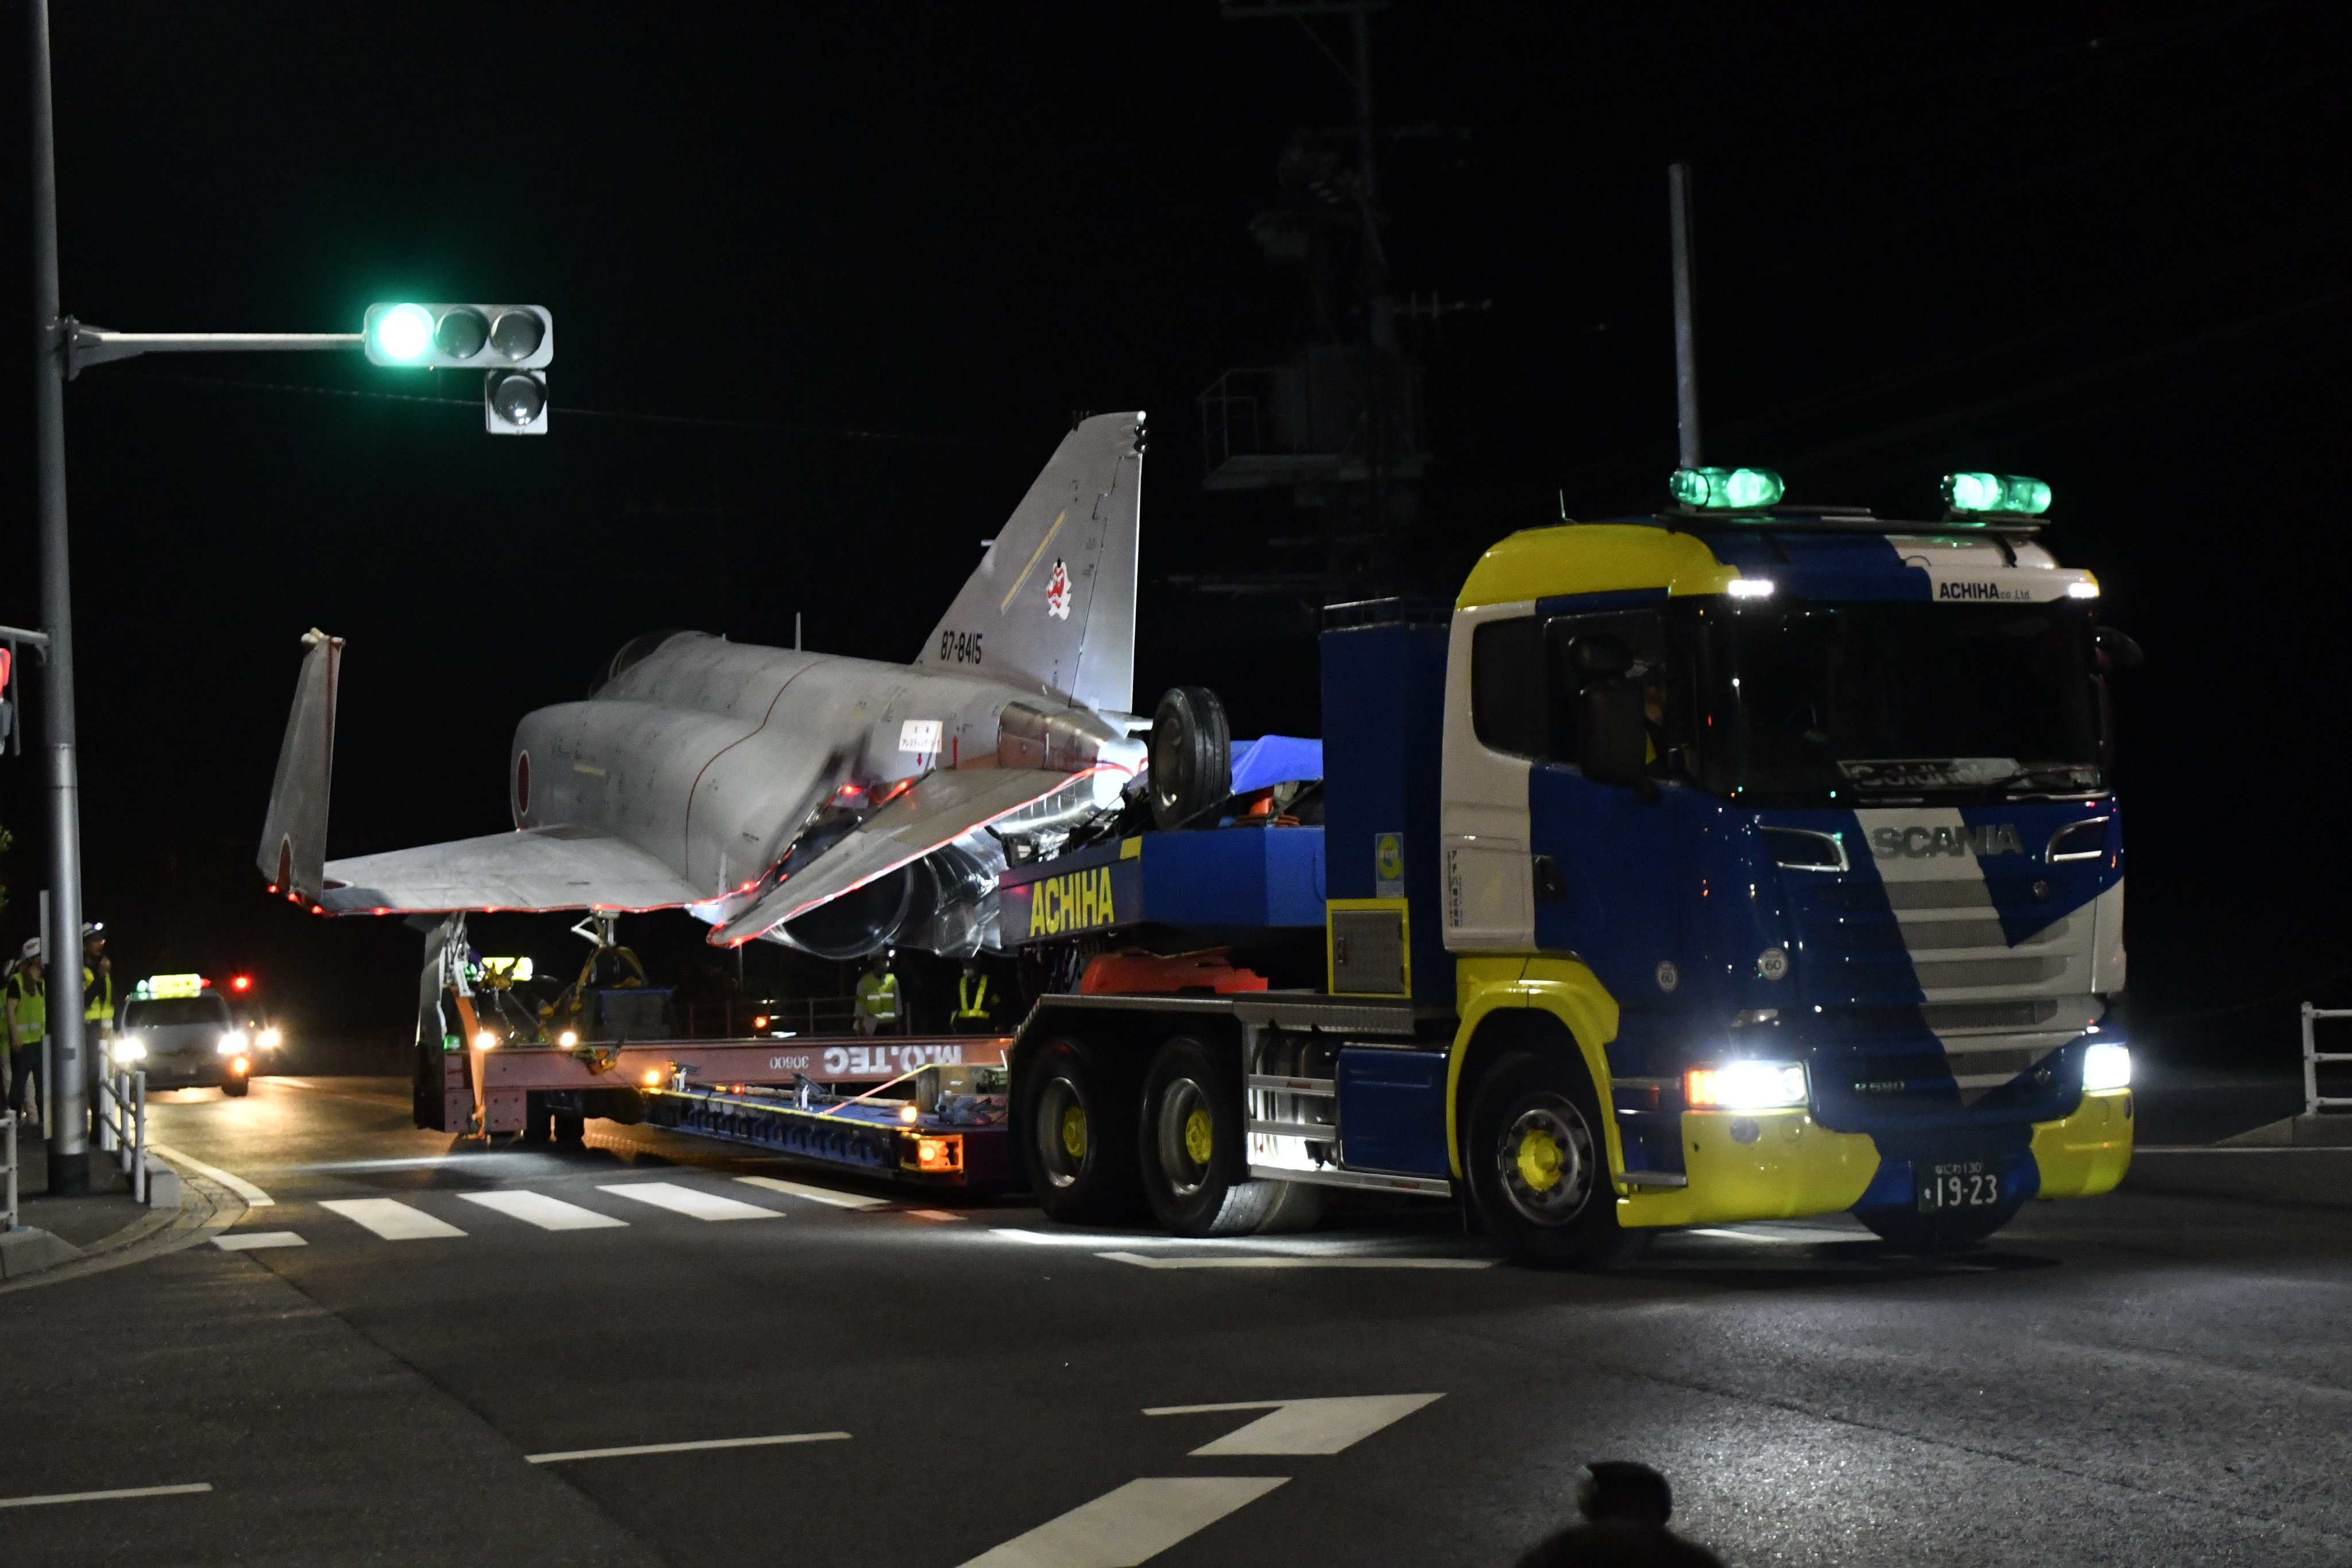F4: (254, 409, 1153, 1046)
